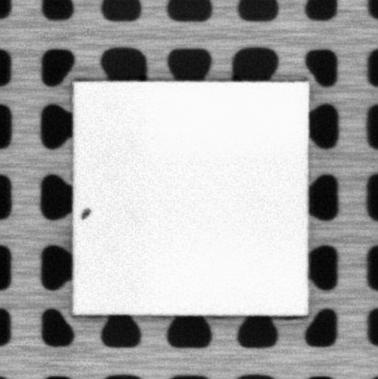DIE_INK: (79, 206, 92, 220)
